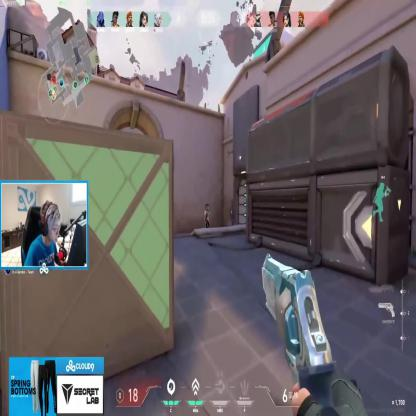enemy: (204, 203, 210, 230)
enemy_head: (206, 205, 209, 211)
